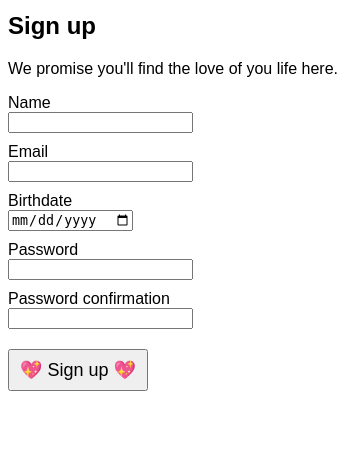
Test: SignupView › when the form is invalid › should show an error if the email is invalid
The width and height of the screenshot is (354, 476).
In the field with test id "name": {"x": 100, "y": 122} [8,112,193,133], type "Chuck"
In the field with test id "email": {"x": 100, "y": 171} [8,161,193,182], type "chuck@norris.com"
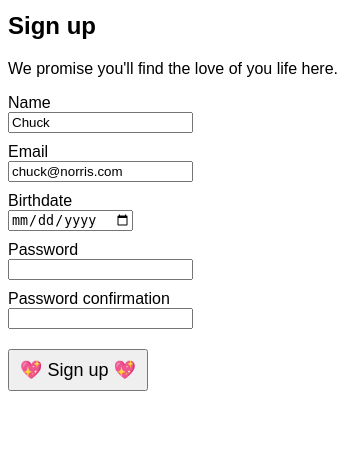
In the date field with test id "birthday": {"x": 71, "y": 220} [8,210,133,231], type "1981-11-12"
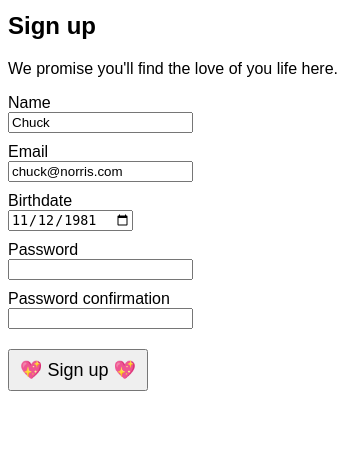
In the password field with test id "password": {"x": 100, "y": 270} [8,259,193,280], type "12341234"
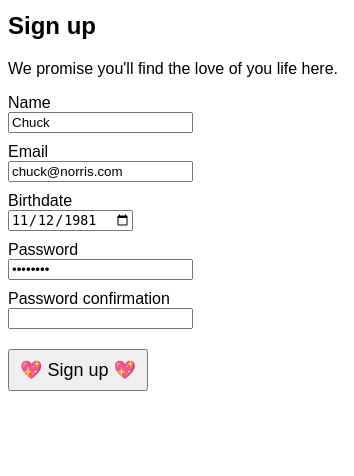
In the password field with test id "passwordConfirmation": {"x": 100, "y": 319} [8,308,193,329], type "12341234"
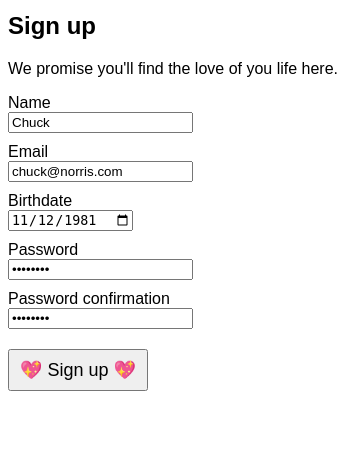
Replace the text in the field with test id "email" with "an invalid email": {"x": 100, "y": 171} [8,161,193,182]
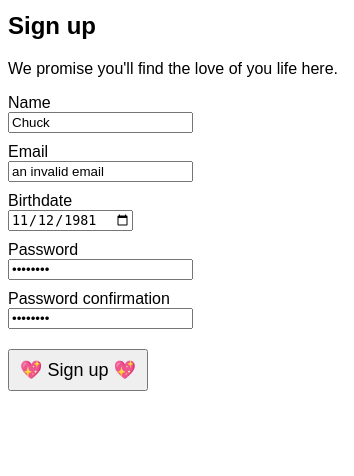
Submit the form, box [8,94,193,391]
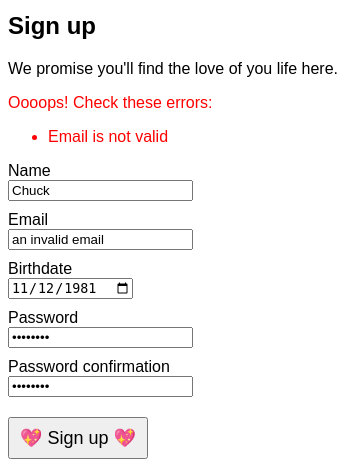
Expected: the element with class "errors" reads "Oooops! Check these errors: Email is not valid", [8,94,212,145]
